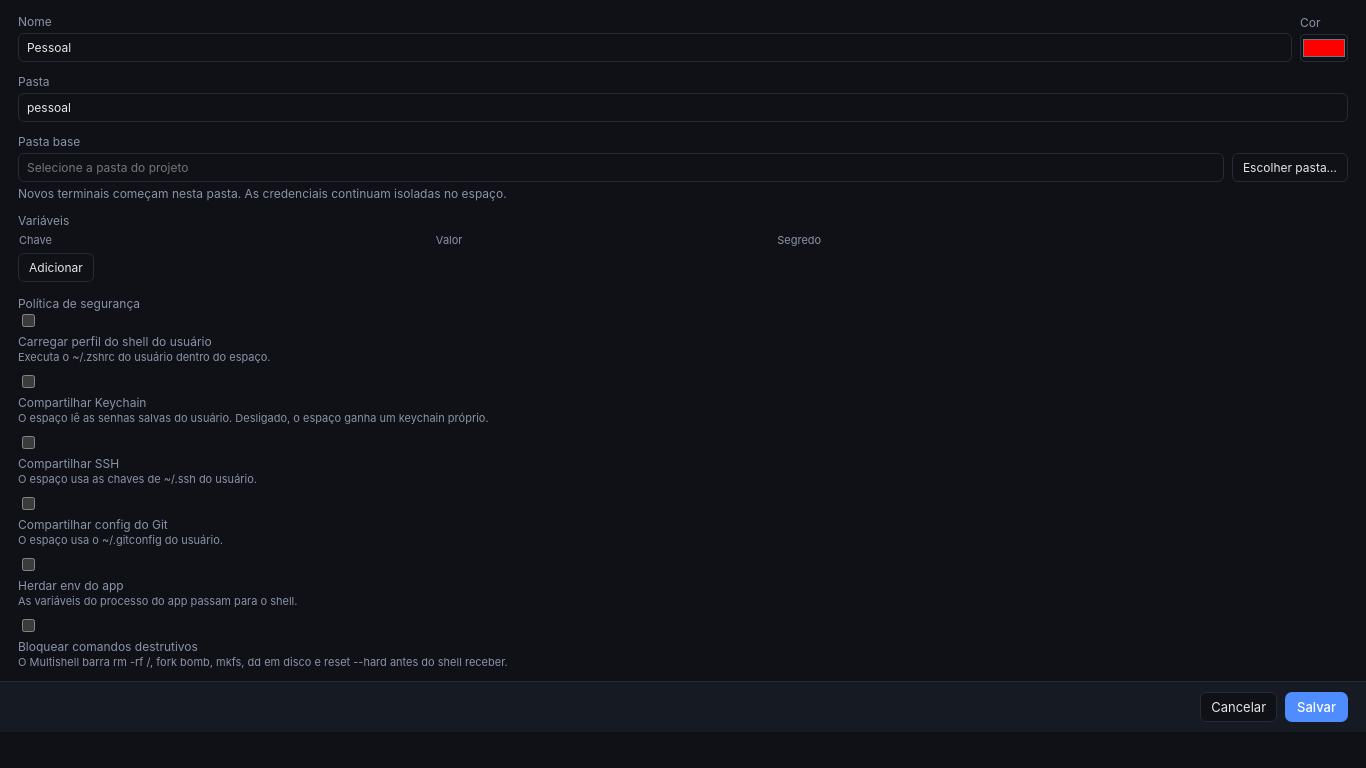
Test: SpaceEditor › mostra share_keychain no darwin e avisa quando um compartilhamento liga
The width and height of the screenshot is (1366, 768).
Click the checkbox labelled "Keychain". click: (28, 382)
box: [22, 375, 35, 388]
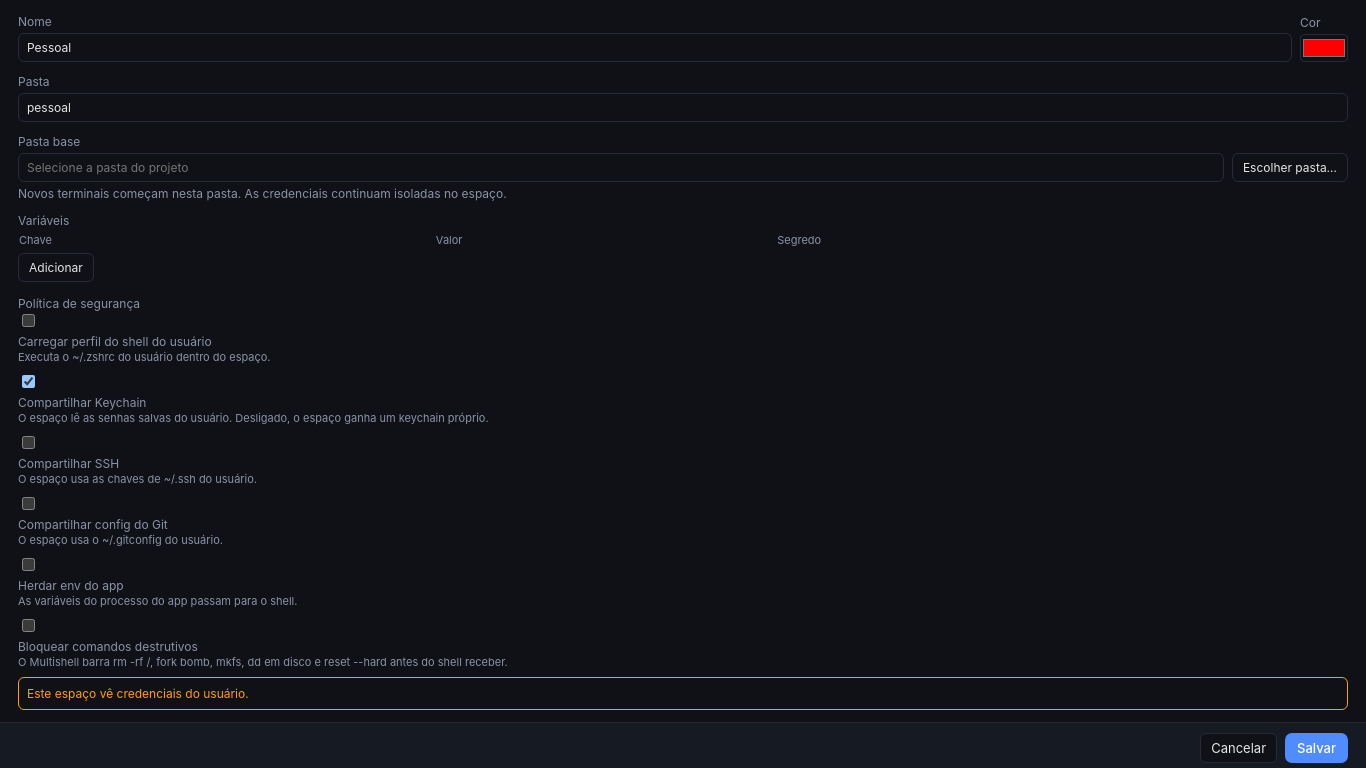
Now the message "Este espaço vê credenciais do usuário." is shown, box [18, 677, 1348, 710]
